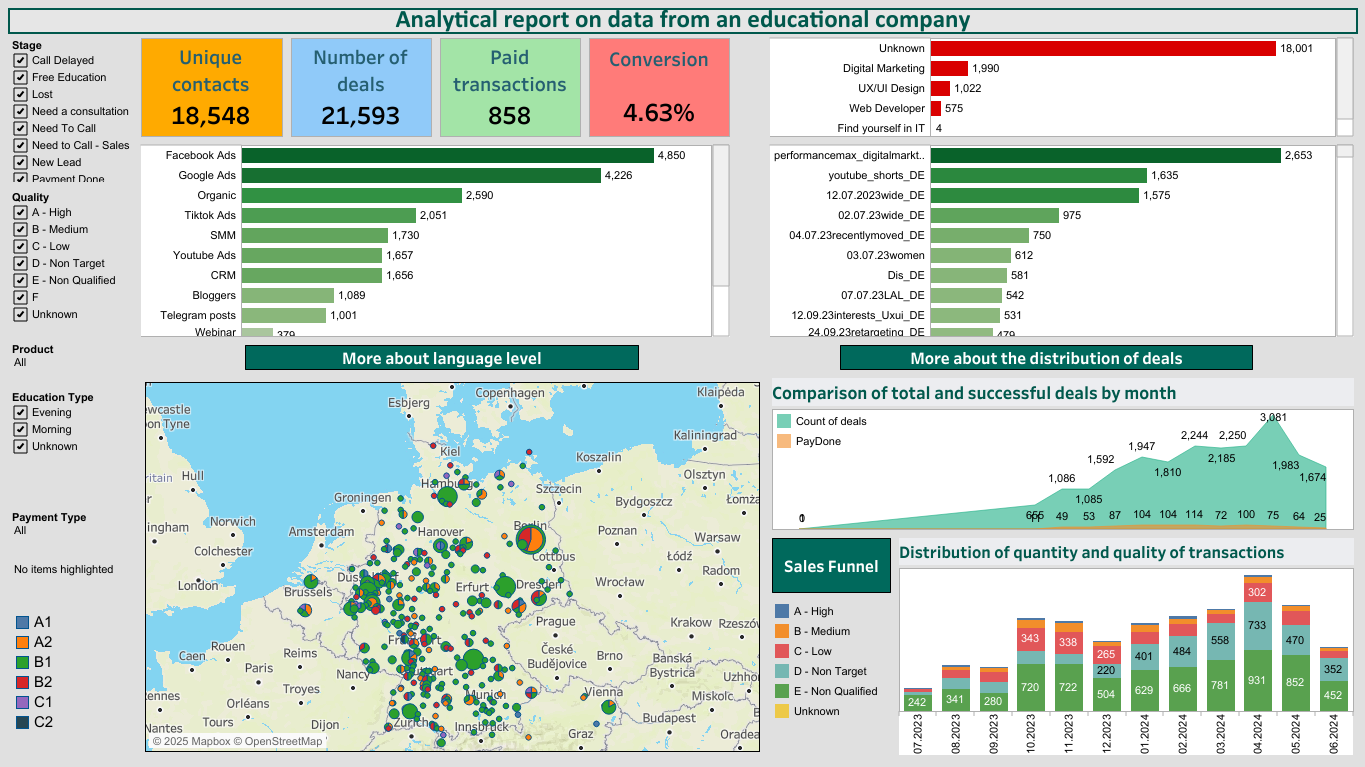

This screenshot's page, from the dashboard's own definition file:
{"tool":"tableau","page":{"name":"Main","canvas":[1366,768],"ordinal":3},"visuals":[{"type":"title","box":[8,8,1350,31]},{"type":"filter","title":"Campaign","param":"[federated.0rw05kn1itivdv1ffa89m1mvkha5].[none:Stage:nk]","box":[8,39,129,150.3]},{"type":"worksheet","title":"KPI Uniq_contact","mark":"Automatic","box":[137,39,150,106]},{"type":"worksheet","title":"KPI Total Deals","mark":"Automatic","box":[287,39,149,106]},{"type":"worksheet","title":"KPI Sum Deals","mark":"Automatic","box":[436,39,149,106]},{"type":"worksheet","title":"KPI С1","mark":"Automatic","box":[585,39,149,106]},{"type":"blank","box":[734,39,32,105.9]},{"type":"worksheet","title":"Sheet 17","mark":"Automatic","rows":["Product"],"cols":["Sheet1_E56637F174AD483E8B4CE634C35A411E"],"box":[766,39,592,105.9]},{"type":"worksheet","title":"Sourse","mark":"Bar","rows":["Source"],"cols":["Sheet1_E56637F174AD483E8B4CE634C35A411E"],"box":[137,144.9,597,199.1]},{"type":"blank","box":[734,144.9,32.1,199.1]},{"type":"worksheet","title":"Campaign","mark":"Automatic","rows":["Campaign"],"cols":["Sheet1_E56637F174AD483E8B4CE634C35A411E"],"box":[766.1,144.9,591.8,199.1]},{"type":"filter","title":"Campaign","param":"[federated.0rw05kn1itivdv1ffa89m1mvkha5].[none:Quality:nk]","box":[8,189.3,129,150.3]},{"type":"filter","title":"Sheet 17","param":"[federated.0rw05kn1itivdv1ffa89m1mvkha5].[none:Product:nk]","box":[8,339.7,129,48]},{"type":"blank","box":[137,344,104,32.7]},{"type":"dashboard-object","box":[241,344,402,32.7]},{"type":"blank","box":[643,344,193,32.7]},{"type":"dashboard-object","box":[836,344,421,32.7]},{"type":"blank","box":[1257,344,101,32.7]},{"type":"worksheet","title":"Map","mark":"Pie","rows":["latitude"],"cols":["longitude"],"box":[137,376.7,631,383.3]},{"type":"worksheet","title":"Deals Trend","mark":"Area","rows":["Sheet1_E56637F174AD483E8B4CE634C35A411E","Calculation_285697169972154368"],"cols":["Created Time"],"box":[768,376.7,590,159.3]},{"type":"filter","title":"Sheet 17","param":"[federated.0rw05kn1itivdv1ffa89m1mvkha5].[none:Education Type:nk]","box":[8,387.7,129,120]},{"type":"legend","title":"Deals Trend","param":"[federated.0rw05kn1itivdv1ffa89m1mvkha5].[:Measure Names]","box":[774,411,137,56]},{"type":"filter","title":"Sheet 17","param":"[federated.0rw05kn1itivdv1ffa89m1mvkha5].[none:Payment Type:nk]","box":[8,507.7,129,53]},{"type":"dashboard-object","box":[768,536,127,62]},{"type":"worksheet","title":"Распределение качества сделок","mark":"Bar","rows":["Closing Date"],"cols":["Closing Date"],"box":[895,536,463,224]},{"type":"highlighter","title":"Map","param":"[federated.0rw05kn1itivdv1ffa89m1mvkha5].[none:Level of Deutsch:nk]","box":[8,560.7,129,49]},{"type":"legend","title":"Распределение качества сделок","param":"[federated.0rw05kn1itivdv1ffa89m1mvkha5].[none:Quality:nk]","box":[768,598,127,162]},{"type":"legend","title":"Map","param":"[federated.0rw05kn1itivdv1ffa89m1mvkha5].[none:Level of Deutsch:nk]","box":[8,609.7,129,150.3]}]}

Visuals, with their boxes in screenshot pixels (x1, y1, x2, y2), scaled from the page's 1366x768 canvas onto the 1365x767 screenshot:
title: 8:8:1357:39
"Campaign" filter: 8:39:137:189
"KPI Uniq_contact" worksheet: 137:39:287:145
"KPI Total Deals" worksheet: 287:39:436:145
"KPI Sum Deals" worksheet: 436:39:585:145
"KPI С1" worksheet: 585:39:733:145
blank: 733:39:765:145
"Sheet 17" worksheet: 765:39:1357:145
"Sourse" worksheet (Bar marks): 137:145:733:344
blank: 733:145:766:344
"Campaign" worksheet: 766:145:1357:344
"Campaign" filter: 8:189:137:339
"Sheet 17" filter: 8:339:137:387
blank: 137:344:241:376
dashboard-object: 241:344:643:376
blank: 643:344:835:376
dashboard-object: 835:344:1256:376
blank: 1256:344:1357:376
"Map" worksheet (Pie marks): 137:376:767:759
"Deals Trend" worksheet (Area marks): 767:376:1357:535
"Sheet 17" filter: 8:387:137:507
"Deals Trend" legend: 773:410:910:466
"Sheet 17" filter: 8:507:137:560
dashboard-object: 767:535:894:597
"Распределение качества сделок" worksheet (Bar marks): 894:535:1357:759
"Map" highlighter: 8:560:137:609
"Распределение качества сделок" legend: 767:597:894:759
"Map" legend: 8:609:137:759
